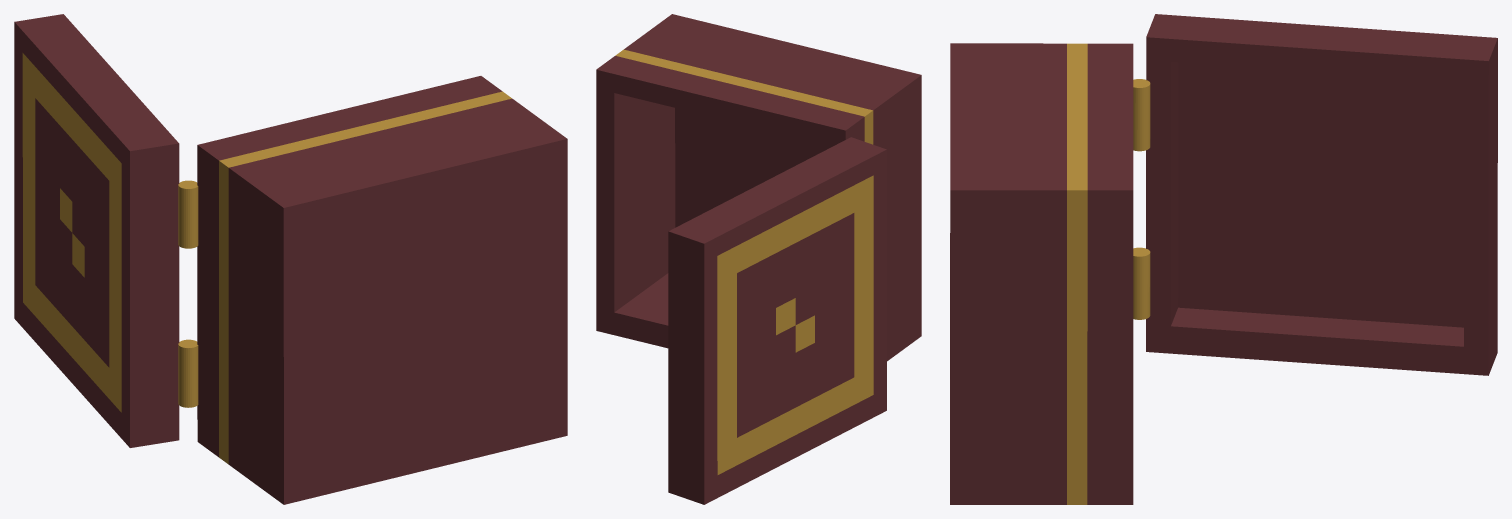
File: JewelryBox.fbx
The picture shows the model from 3 angles, left to right: view 1: azimuth 30°, elevation 25°; view 2: azimuth 150°, elevation 25°; view 3: azimuth 270°, elevation 25°; orthographic projection. The views are drawn at different scales.
Parts seen in each view (by area): view 1: Cube, Cube.001, Cylinder.001, Cylinder; view 2: Cube.001, Cube; view 3: Cube.001, Cube, Cylinder, Cylinder.001.
Boxes of the visible parts, x1,y1,x2,y2 form: Cube: (197, 76, 567, 504); Cube.001: (14, 14, 179, 447); Cylinder.001: (178, 339, 198, 407); Cylinder: (178, 180, 198, 248); Cube.001: (668, 137, 886, 504); Cube: (596, 14, 921, 361); Cube.001: (1146, 14, 1497, 375); Cube: (950, 43, 1133, 504); Cylinder: (1133, 79, 1150, 151); Cylinder.001: (1133, 247, 1150, 319).
Size of the model in its own units: 417 by 347 by 548.
